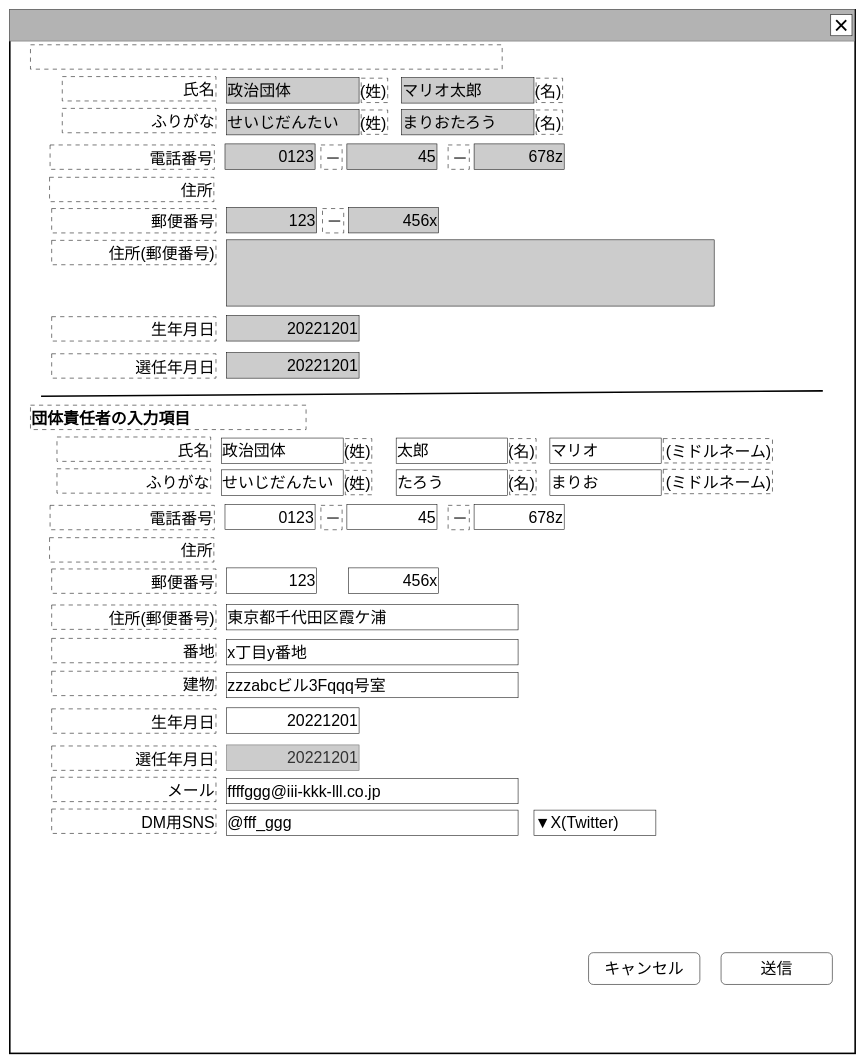
This 865x1063 diagram has some shape labels left out. Here are the shapes that lost their labels. From the top down, the box of each, then its label:
(30, 44, 502, 69): 政治団体設立届書と政治資金収支報告書で表示される項目
(226, 239, 714, 306): 東京都千代田区霞ケ浦x丁目y番地zzzabcビル3Fqqq号室
